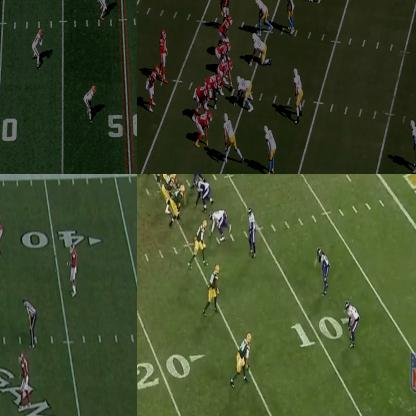CENTER: (223, 61, 236, 91), (164, 174, 178, 183)
DB: (316, 245, 334, 296), (344, 301, 363, 345), (18, 352, 32, 408), (247, 204, 258, 255), (84, 84, 96, 119), (33, 30, 43, 65), (70, 243, 76, 297), (411, 119, 415, 172), (0, 213, 3, 257)
LB: (253, 0, 271, 34), (266, 126, 277, 173), (293, 67, 302, 124), (283, 0, 295, 30), (99, 0, 109, 19)
QB: (160, 32, 169, 84)
SKILL: (234, 332, 251, 384), (188, 219, 207, 260), (206, 267, 221, 311), (196, 109, 210, 146), (148, 69, 158, 113), (220, 0, 229, 15)
